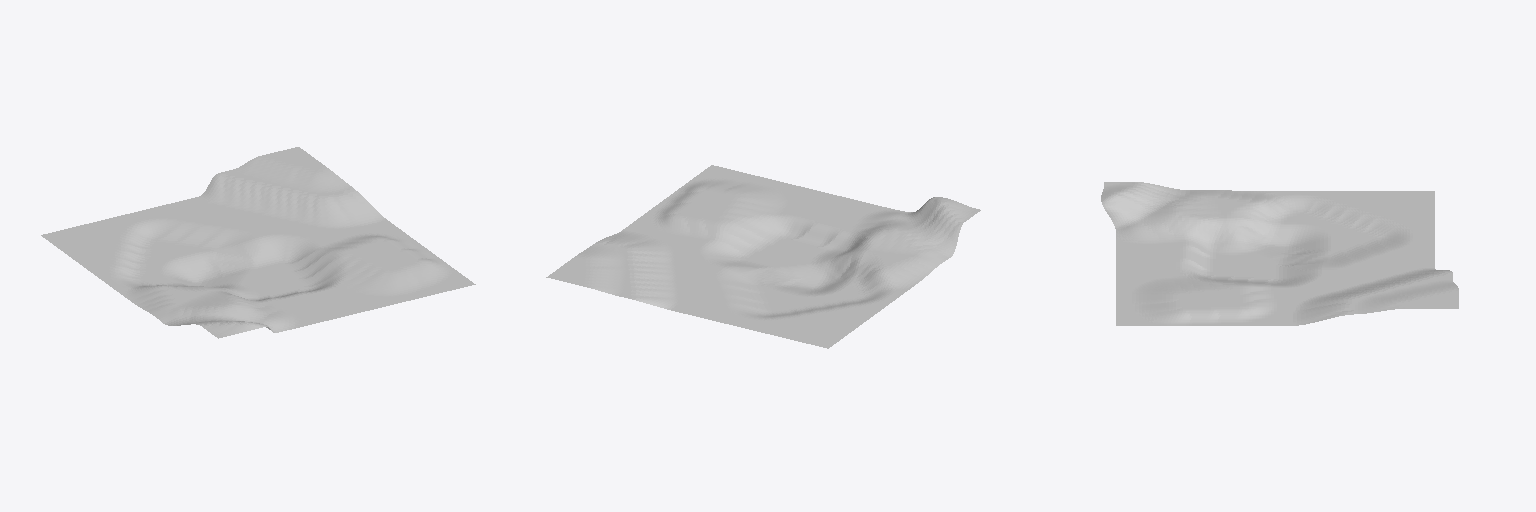
File: Terrain.obj
The picture shows the model from 3 angles: view 1: azimuth 30°, elevation 25°; view 2: azimuth 150°, elevation 25°; view 3: azimuth 270°, elevation 25°; orthographic projection.
Parts seen in each view (by area): view 1: 平面; view 2: 平面; view 3: 平面.
Part boxes in pixels (bbox=[...]): 平面: bbox=[41, 147, 475, 338]; 平面: bbox=[546, 165, 980, 348]; 平面: bbox=[1101, 182, 1458, 325].
Bounding box in the file's own units: 256 × 28.36 × 287.